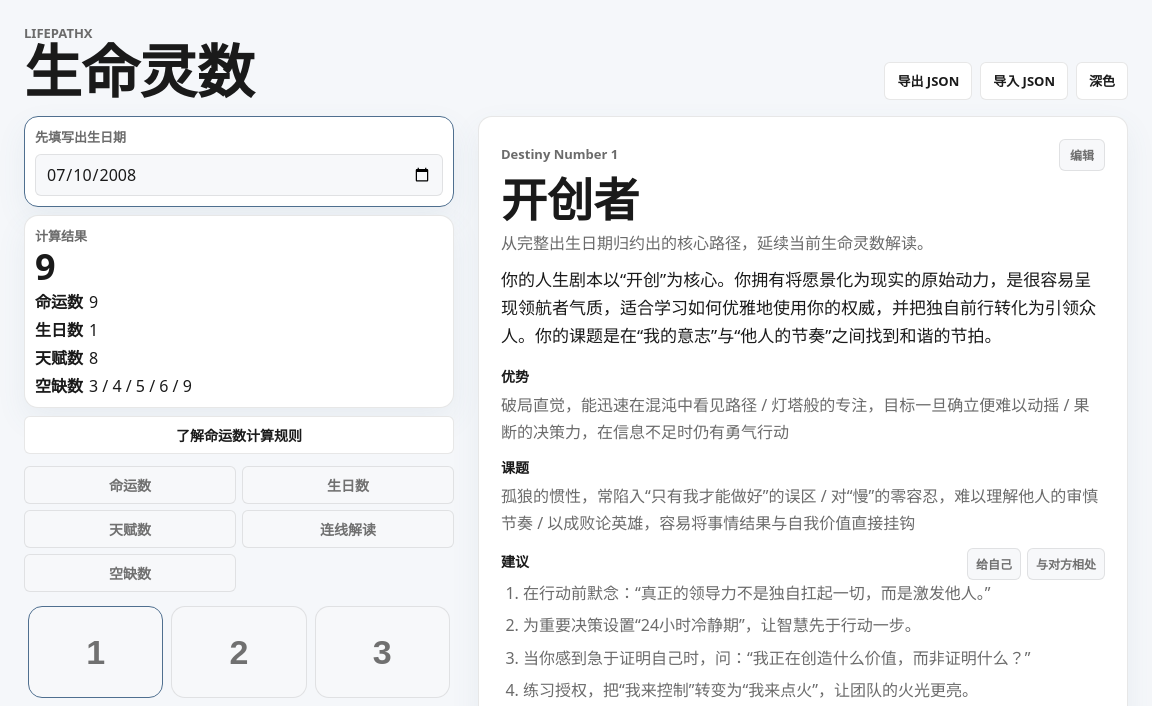
Test: MainPage › 可以在浅色和深色主题之间切换
Click the button with class "theme-toggle" at (1102, 81), box [1076, 62, 1128, 100]
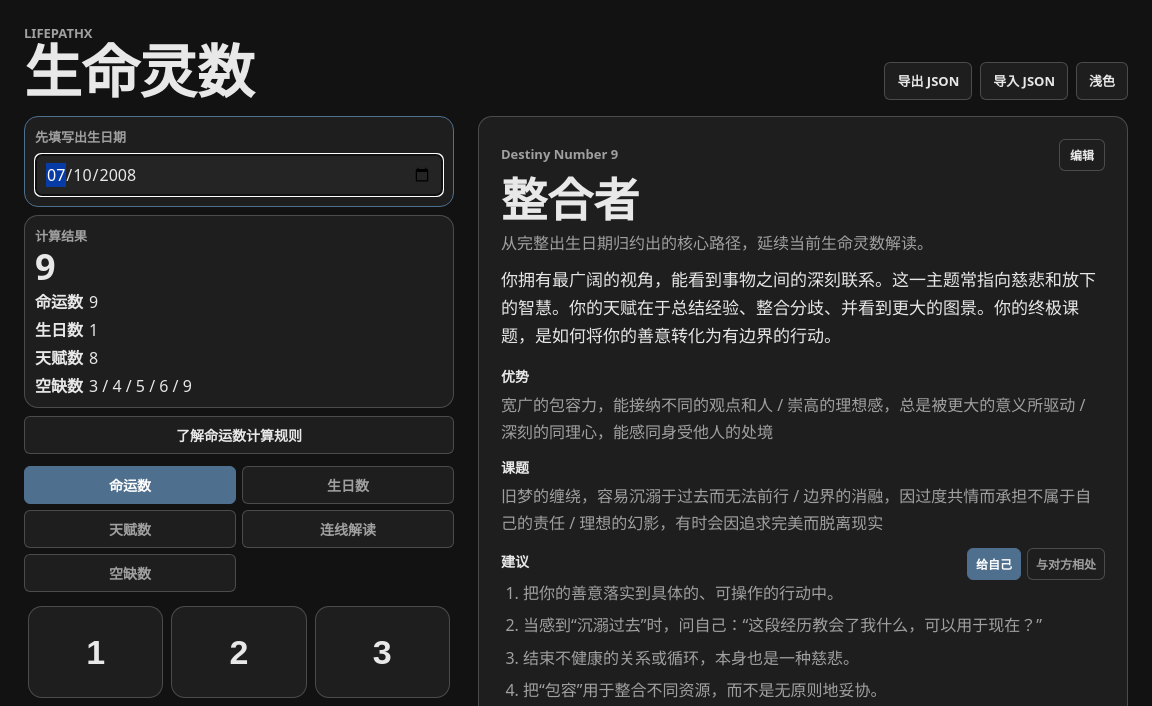
Check: the button with class "theme-toggle" reads "浅色", box [1076, 62, 1128, 100]
